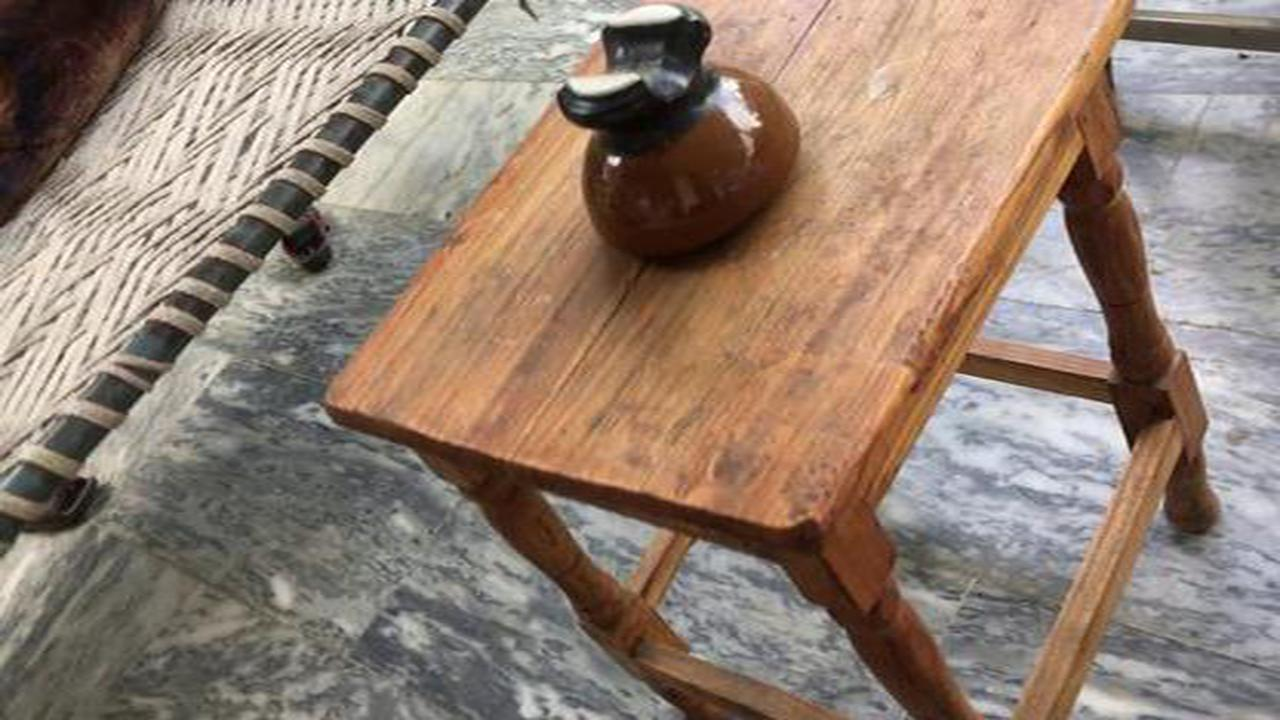insulator_pin: (542, 2, 813, 281)
